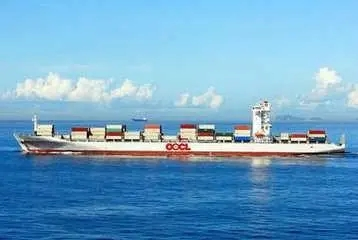Cargoship: (10, 91, 343, 153)
